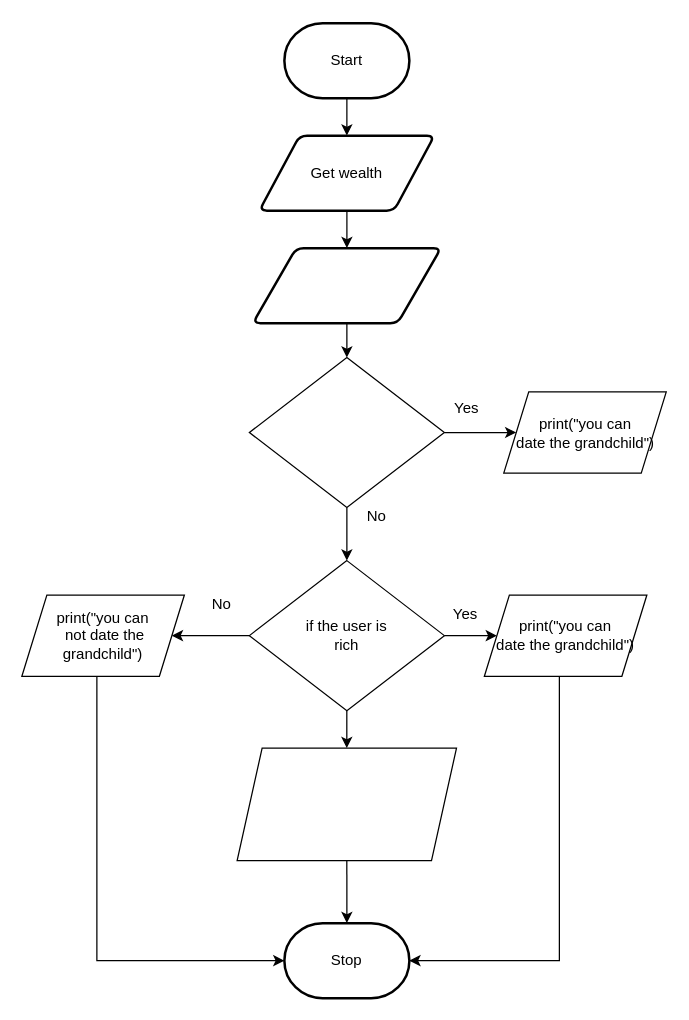
Some shapes in this 689 by 1020 pixel diagram are drawn without their labels. Here are the shapes that lost their labels. From the top down, the box of each, then its label:
(251, 246, 442, 324): Get looks
(248, 356, 444, 508): if the user is handsome
(236, 747, 456, 861): print(" Really? (-_-)ゞ all you had to do was say yes or no ")
